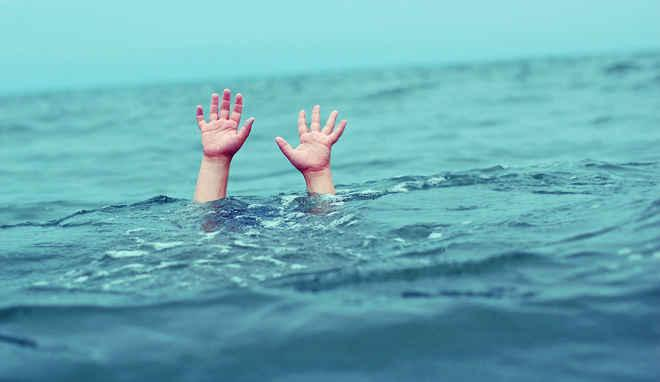human: (190, 86, 350, 202)
